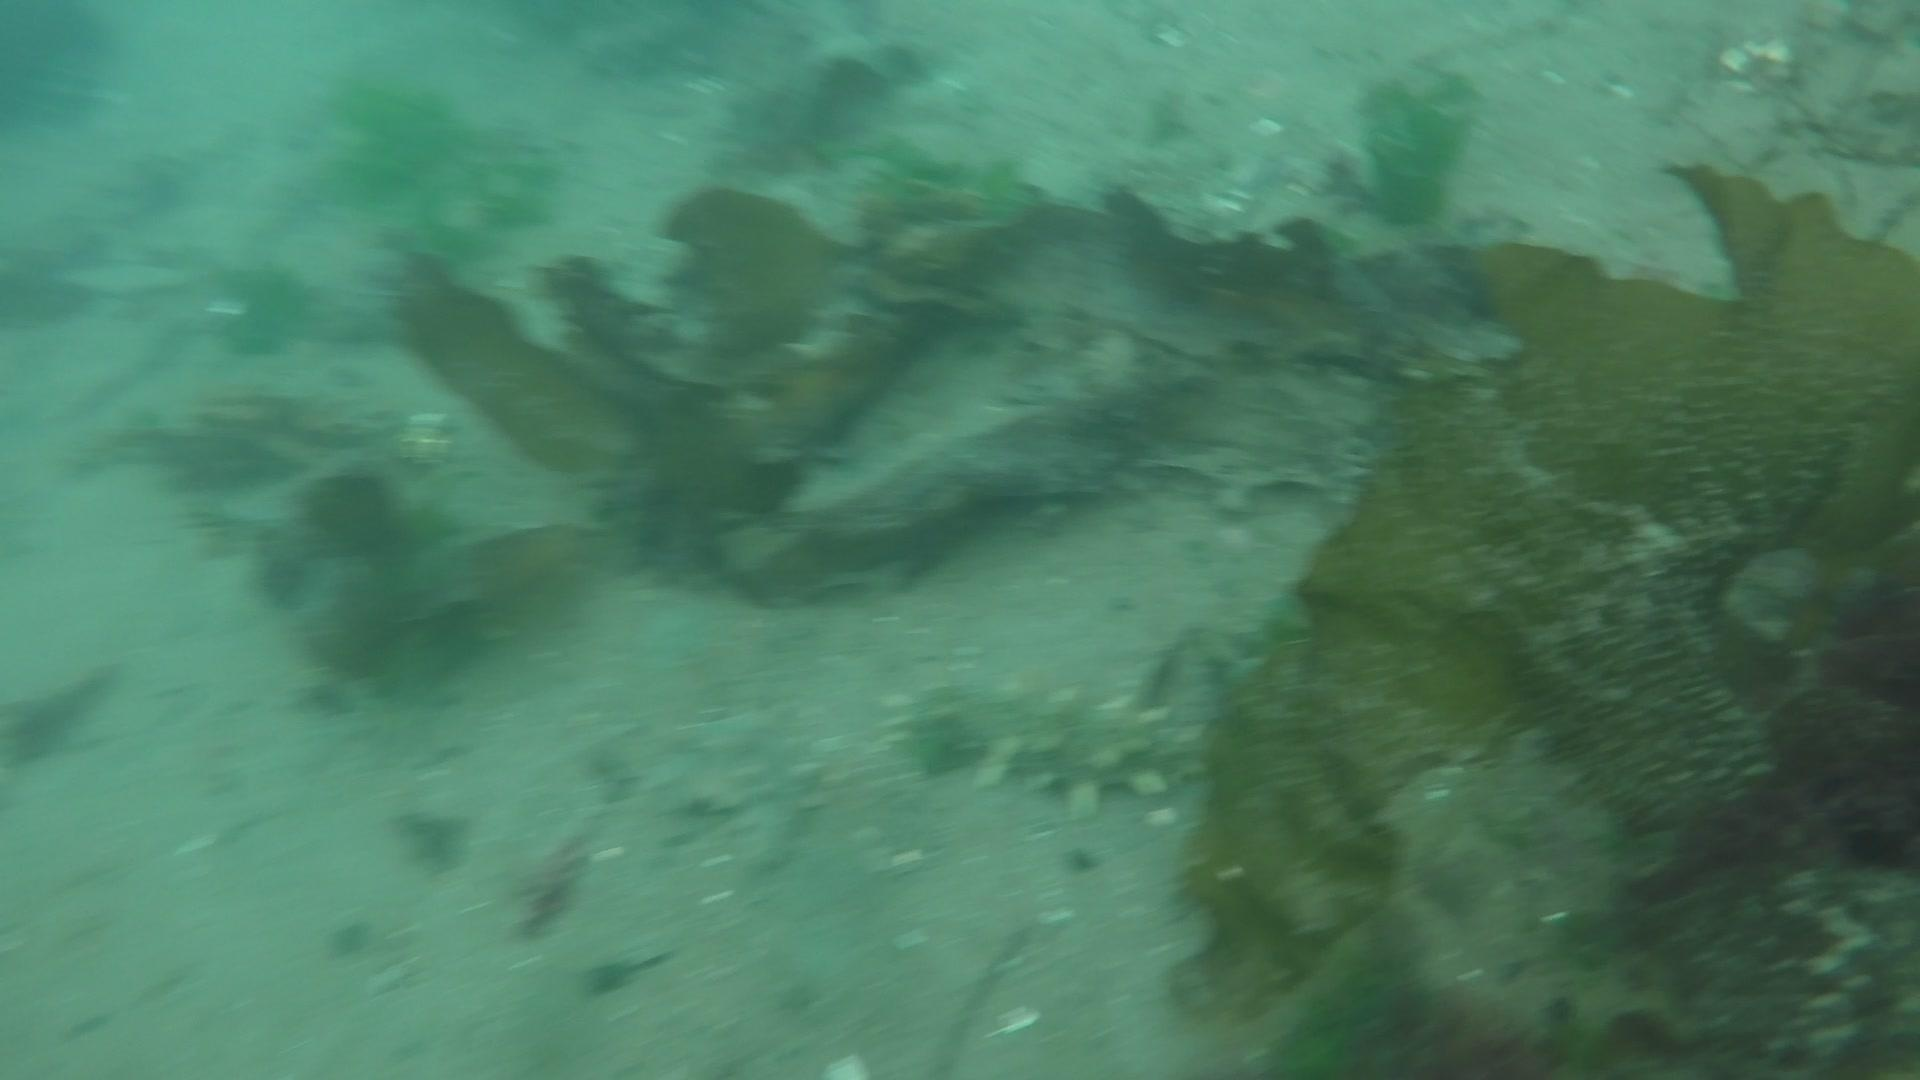echinus: (297, 463, 407, 562)
holothurian: (885, 665, 1209, 814)
